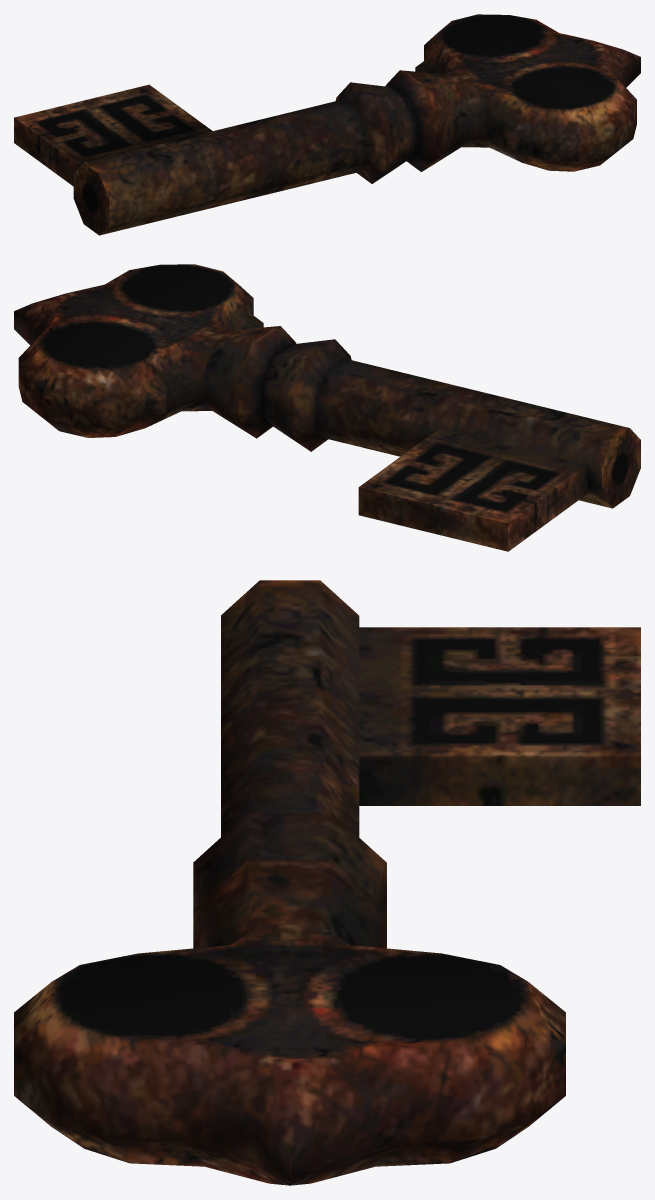
Rendered from key_tomb_rusty.dae.
3 views of the same model, one above another, from view 1: azimuth 30°, elevation 25°; view 2: azimuth 150°, elevation 25°; view 3: azimuth 270°, elevation 25° (orthographic). The views are drawn at different scales.
Visible parts, largest first — view 1: key_tomb1; view 2: key_tomb1; view 3: key_tomb1.
Boxes of the visible parts, left/top/right/bottom form: key_tomb1: left=14, top=14, right=640, bottom=235; key_tomb1: left=14, top=264, right=640, bottom=551; key_tomb1: left=14, top=580, right=640, bottom=1185.
Size of the model in its own units: 0.1885 by 0.0282 by 0.0954.
